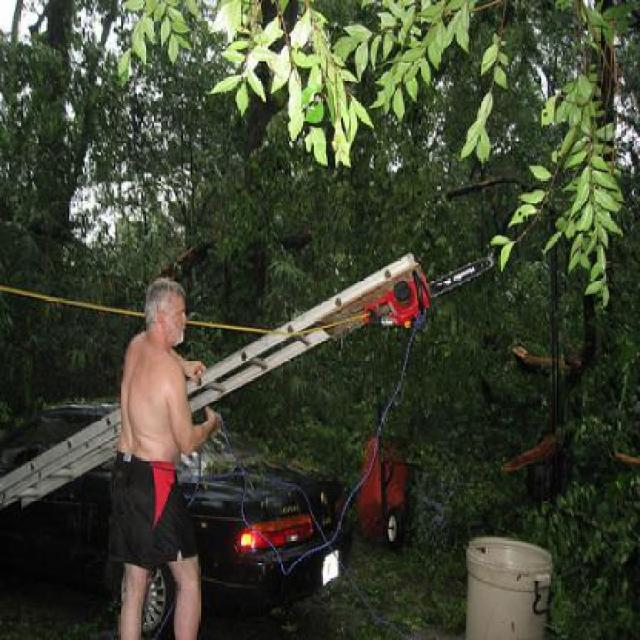Chainsaw: (369, 251, 500, 331)
